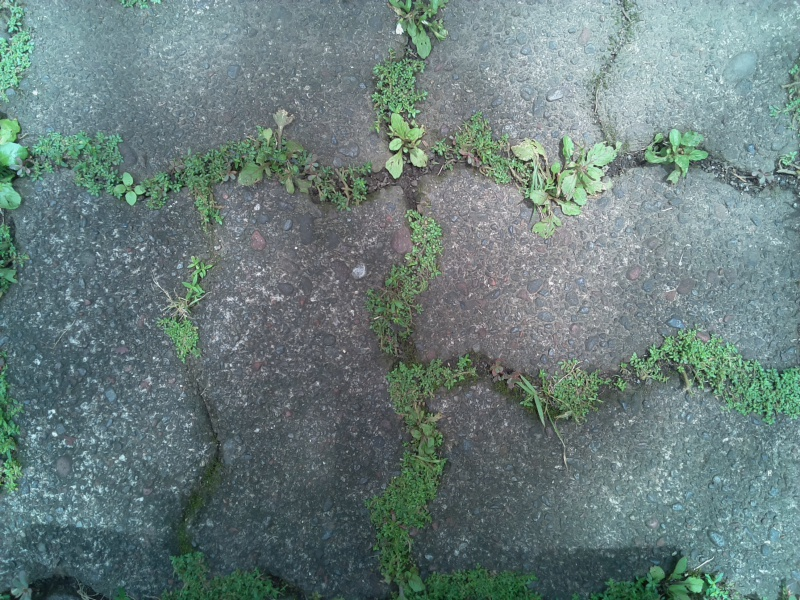Weed: (372, 361, 470, 577), (629, 332, 800, 438), (513, 138, 615, 233), (374, 210, 443, 348), (142, 141, 243, 231), (26, 128, 131, 207), (511, 357, 612, 428), (237, 116, 318, 201), (160, 261, 210, 363), (639, 128, 709, 186), (379, 4, 452, 58), (632, 559, 725, 600), (374, 58, 432, 123), (382, 115, 427, 179), (114, 170, 146, 213)
